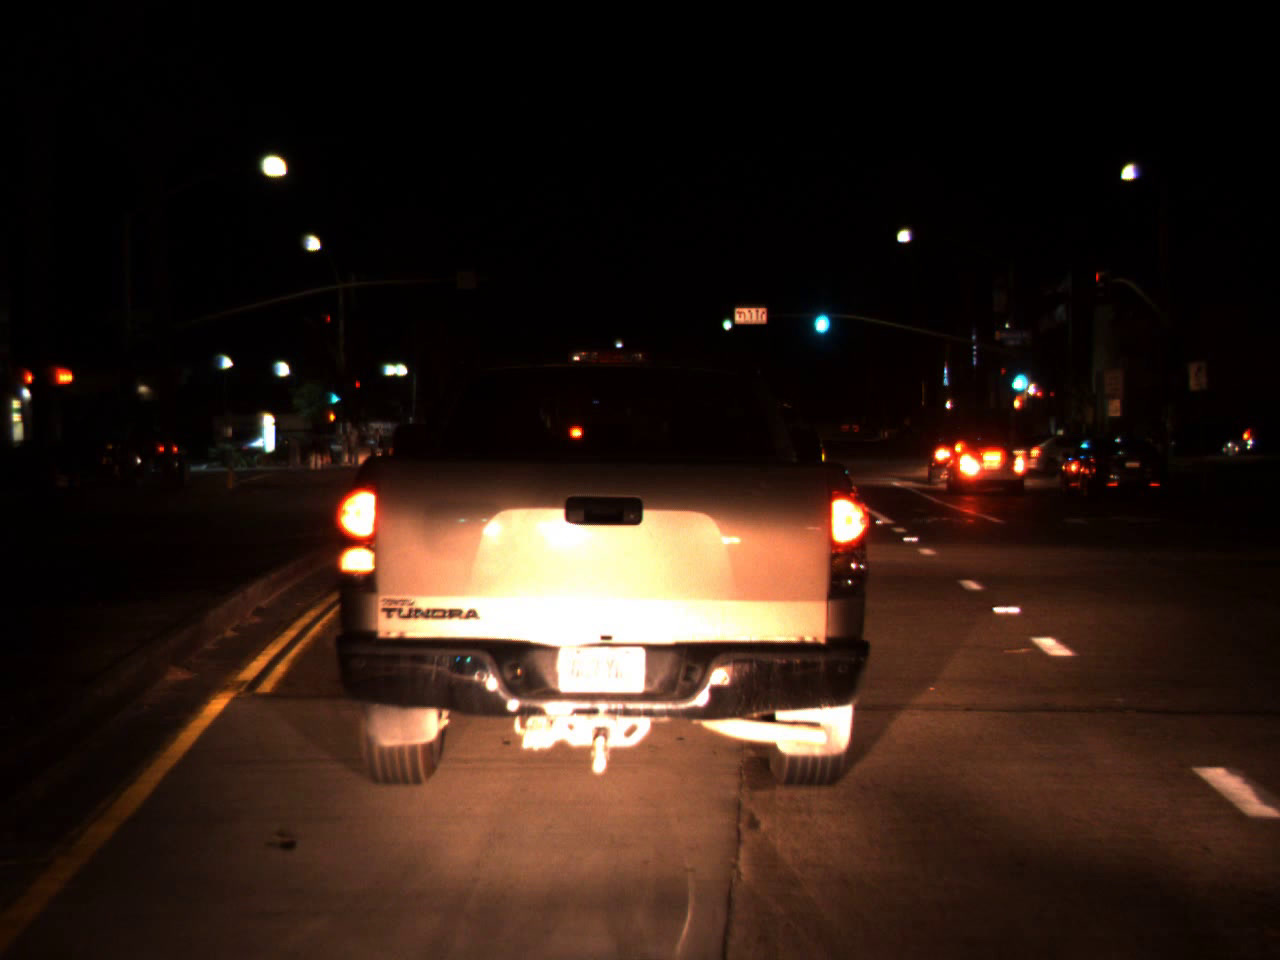go: (808, 295, 833, 337), (1006, 356, 1027, 395), (325, 376, 344, 409), (720, 309, 732, 333)
